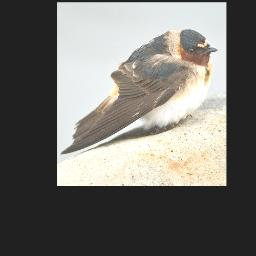Swallow: (59, 28, 218, 156)
